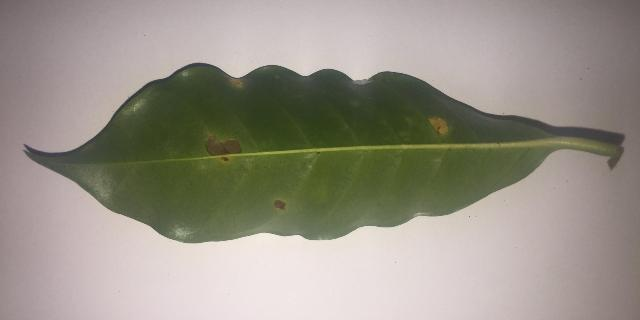cercospora: (206, 135, 241, 162), (428, 117, 449, 135), (228, 78, 245, 88), (274, 200, 286, 211)
